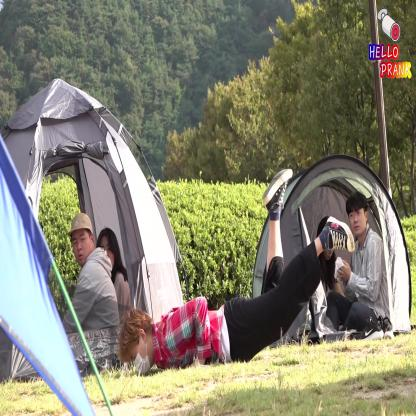Fall_Down: (121, 167, 355, 375)
